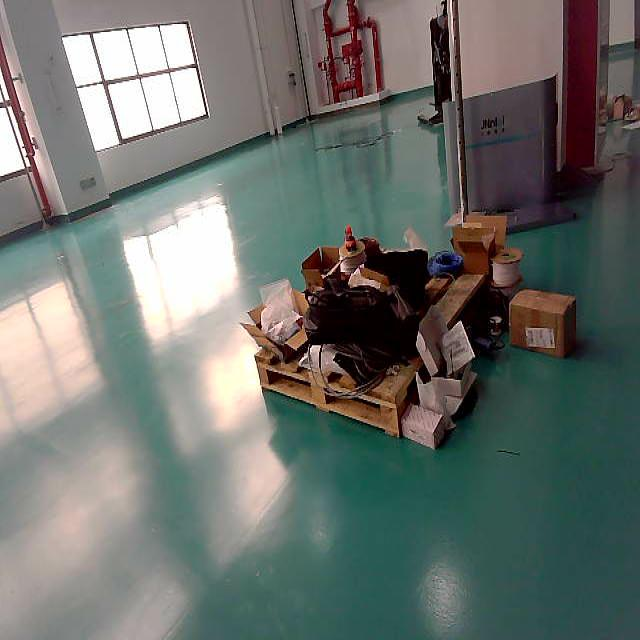euro: (189, 211, 486, 455)
